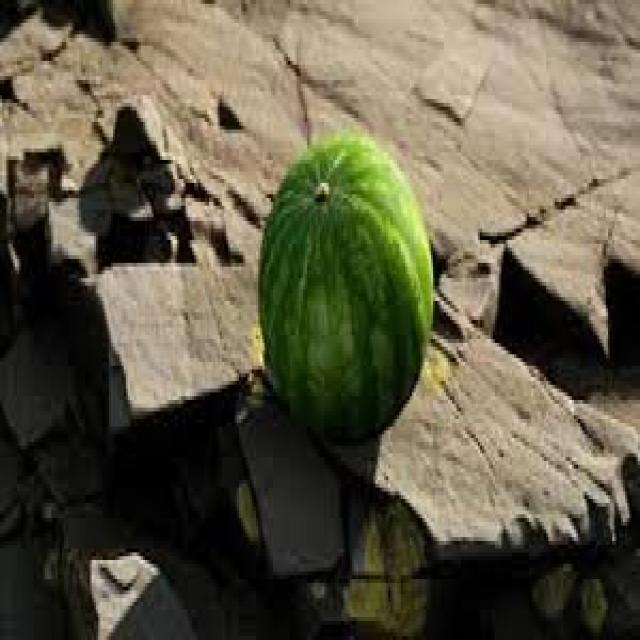watermelon: (256, 129, 433, 442)
